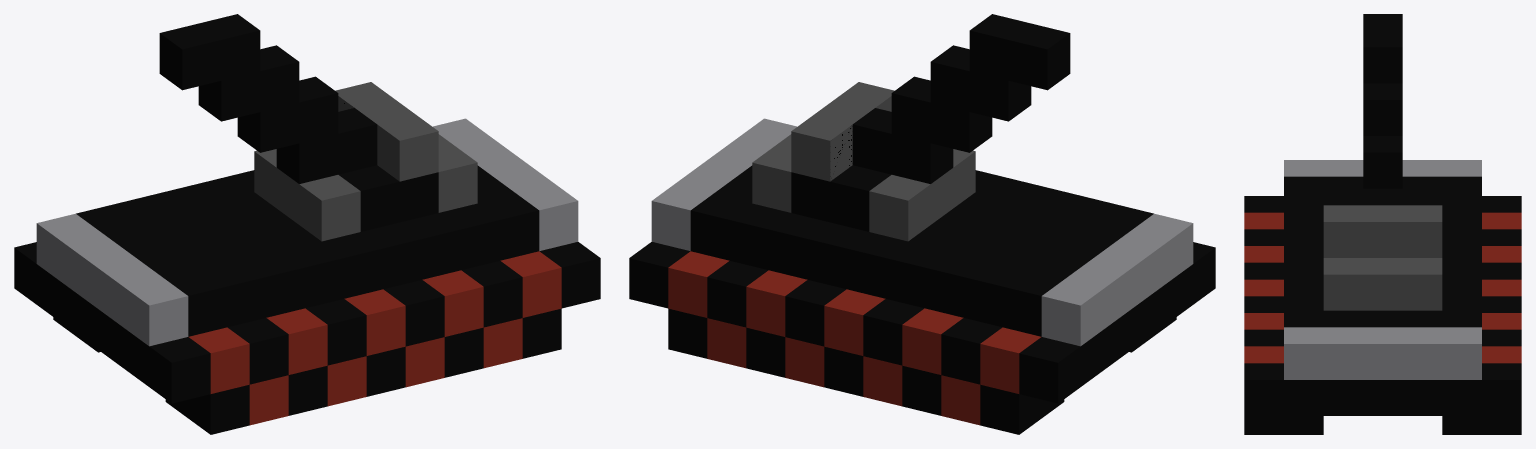
The model's file is artillery.glb.
3 views of the same model, side by side, from view 1: azimuth 30°, elevation 25°; view 2: azimuth 150°, elevation 25°; view 3: azimuth 270°, elevation 25° (orthographic). The views are drawn at different scales.
Parts seen in each view (by area): view 1: artillery; view 2: artillery; view 3: artillery.
Boxes of the visible parts, box(x1,y1,x2,y2) form: artillery: box(14, 14, 600, 434); artillery: box(629, 14, 1215, 434); artillery: box(1244, 14, 1521, 434).
Bounding box in the file's own units: 0.5269 × 0.3832 × 0.3353.
Materials: 1 (1 with a texture image).
